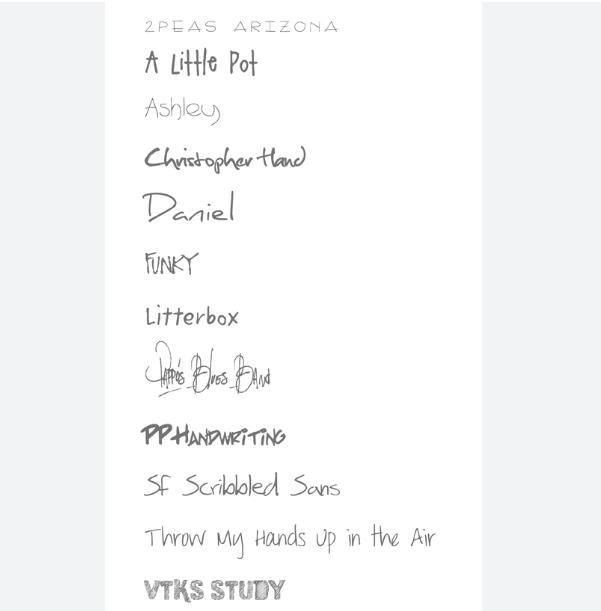text: (143, 521, 438, 561), (143, 338, 274, 399), (142, 469, 342, 500), (143, 142, 309, 176), (140, 577, 288, 604), (143, 15, 340, 35), (143, 45, 260, 78), (141, 186, 238, 225), (139, 423, 287, 448), (143, 95, 223, 126), (144, 303, 242, 328), (142, 249, 202, 275)
